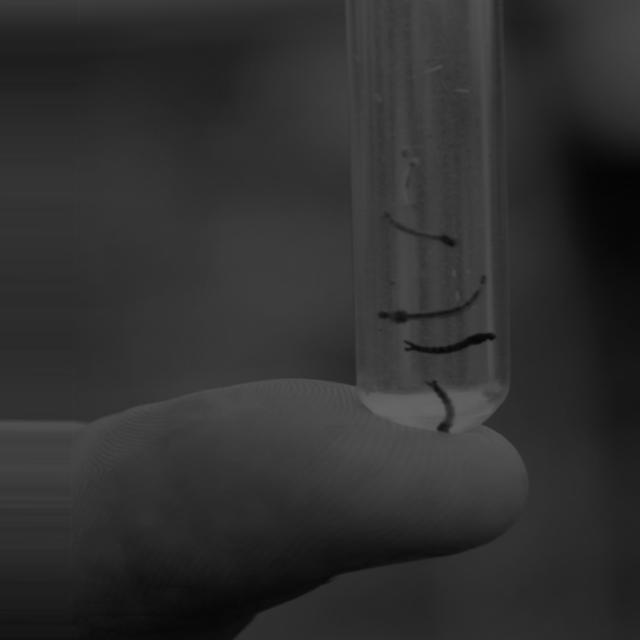larvas: (383, 268, 488, 324), (375, 210, 456, 250), (396, 330, 496, 354), (419, 378, 456, 430), (397, 140, 422, 194)
